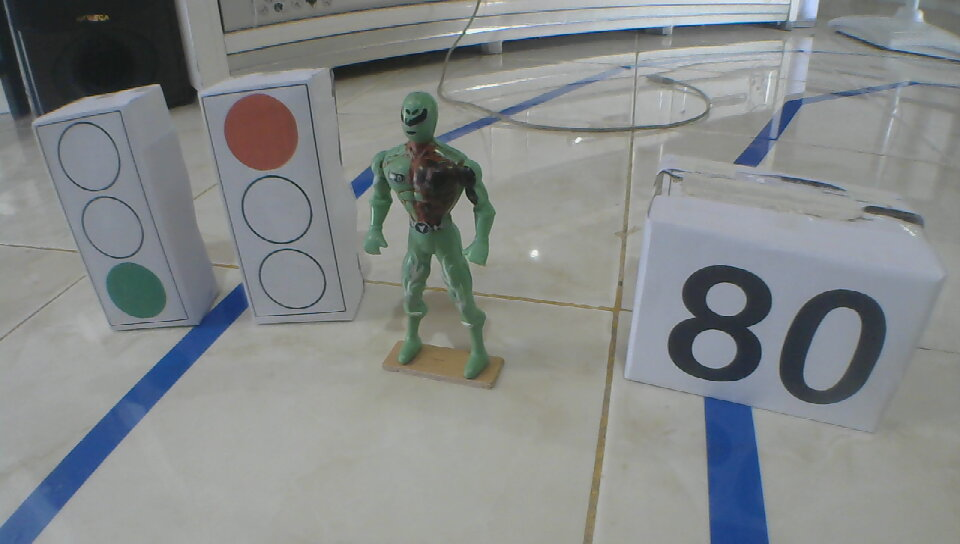Green Light: (58, 121, 168, 322)
Red Light: (222, 90, 328, 314)
Speed 80: (664, 264, 888, 409)
person: (360, 90, 495, 382)
